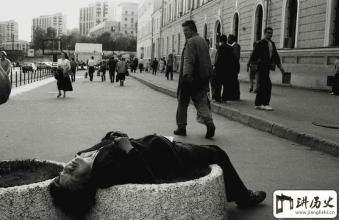10+: (1, 1, 337, 218)
down: (42, 121, 275, 218)
